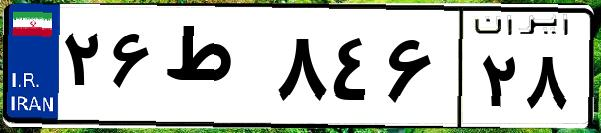2: (57, 26, 110, 100), (475, 38, 525, 113)
4: (330, 28, 385, 110)
6: (385, 28, 445, 110), (110, 28, 158, 98)
8: (270, 28, 330, 110), (525, 38, 570, 115)
ط: (158, 20, 270, 120)
